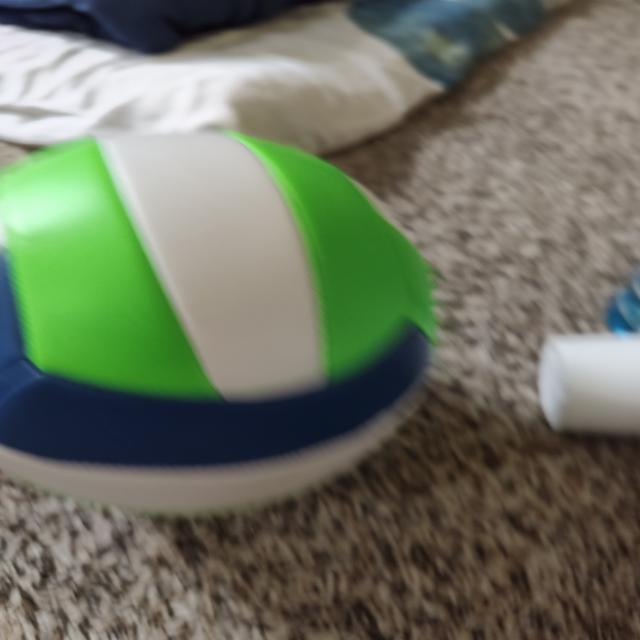ball: (7, 142, 423, 518)
